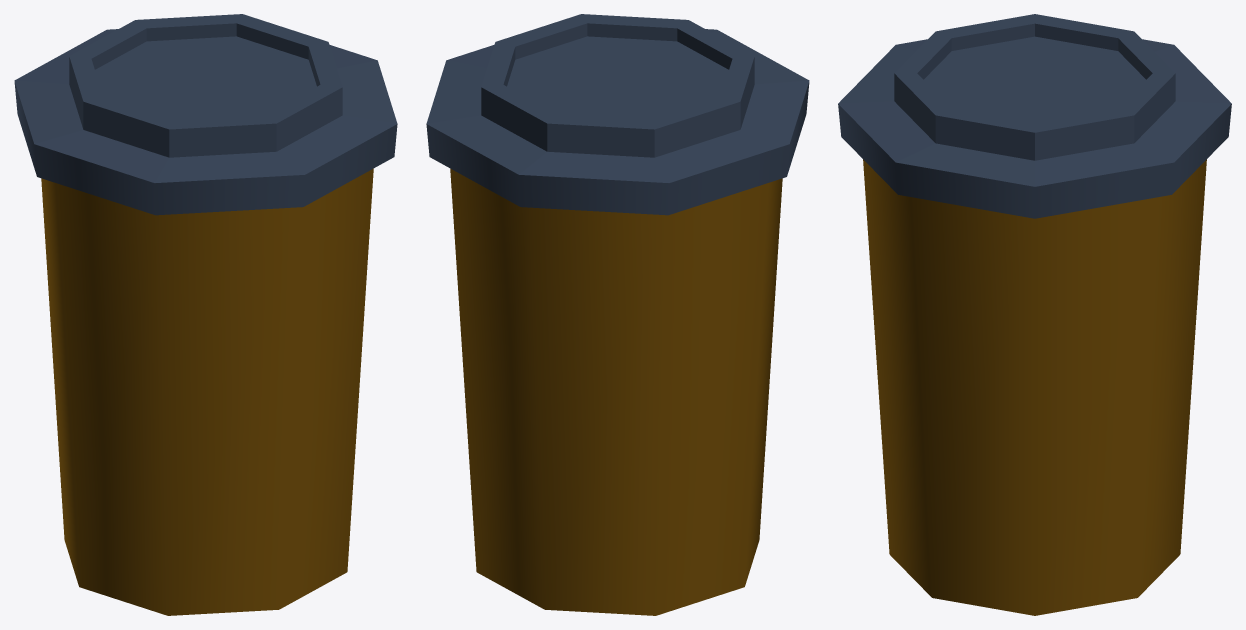
The model's file is Unwrapped_cup2.fbx.
3 views of the same model, side by side, from view 1: azimuth 30°, elevation 25°; view 2: azimuth 150°, elevation 25°; view 3: azimuth 270°, elevation 25° (orthographic).
Visible parts, largest first — view 1: Cylinder010; view 2: Cylinder010; view 3: Cylinder010.
Boxes of the visible parts, x1,y1,x2,y2 form: Cylinder010: (14, 14, 397, 615); Cylinder010: (426, 14, 809, 615); Cylinder010: (838, 14, 1231, 615).
Bounding box in the file's own units: 30.07 × 40.53 × 30.07.
